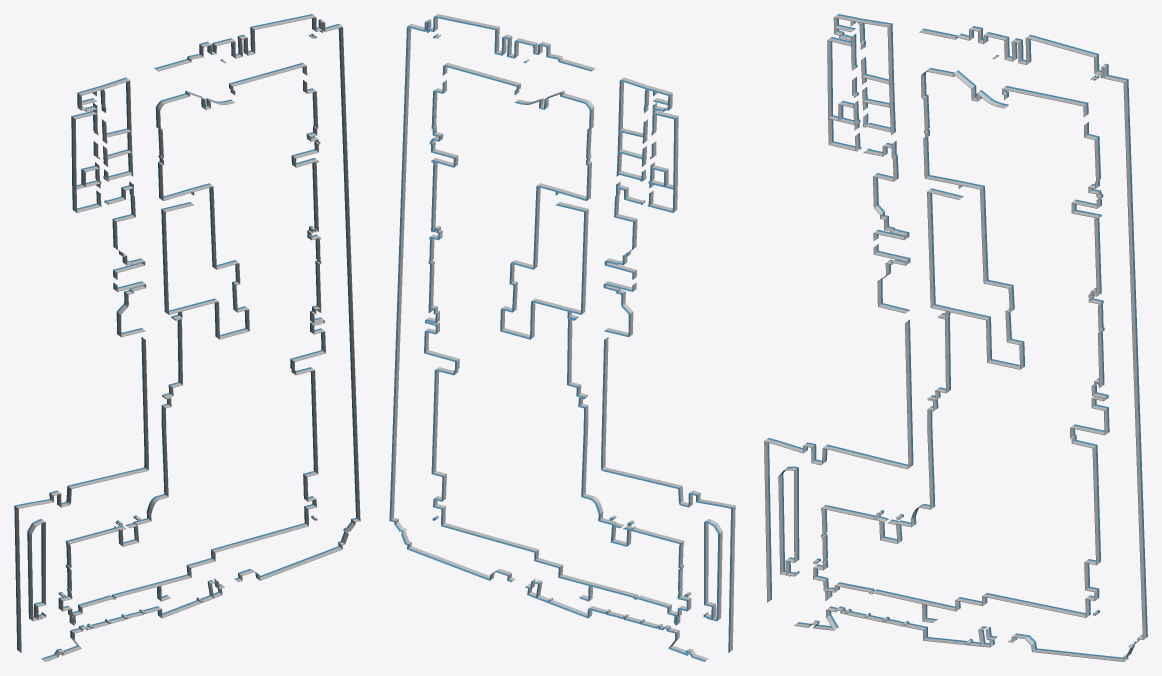
Rendered from wall_1.obj.
3 renders of one model, left to right at view 1: azimuth 30°, elevation 25°; view 2: azimuth 150°, elevation 25°; view 3: azimuth 330°, elevation 25°, orthographic. The views are drawn at different scales.
Visible parts, largest first — view 1: walls; view 2: walls; view 3: walls.
Boxes of the visible parts, x1,y1,x2,y2 form: walls: [14, 14, 360, 661]; walls: [389, 14, 735, 661]; walls: [764, 14, 1147, 661].
Bounding box in the file's own units: 116 × 189 × 2.5.
1 material, 1 textured.
